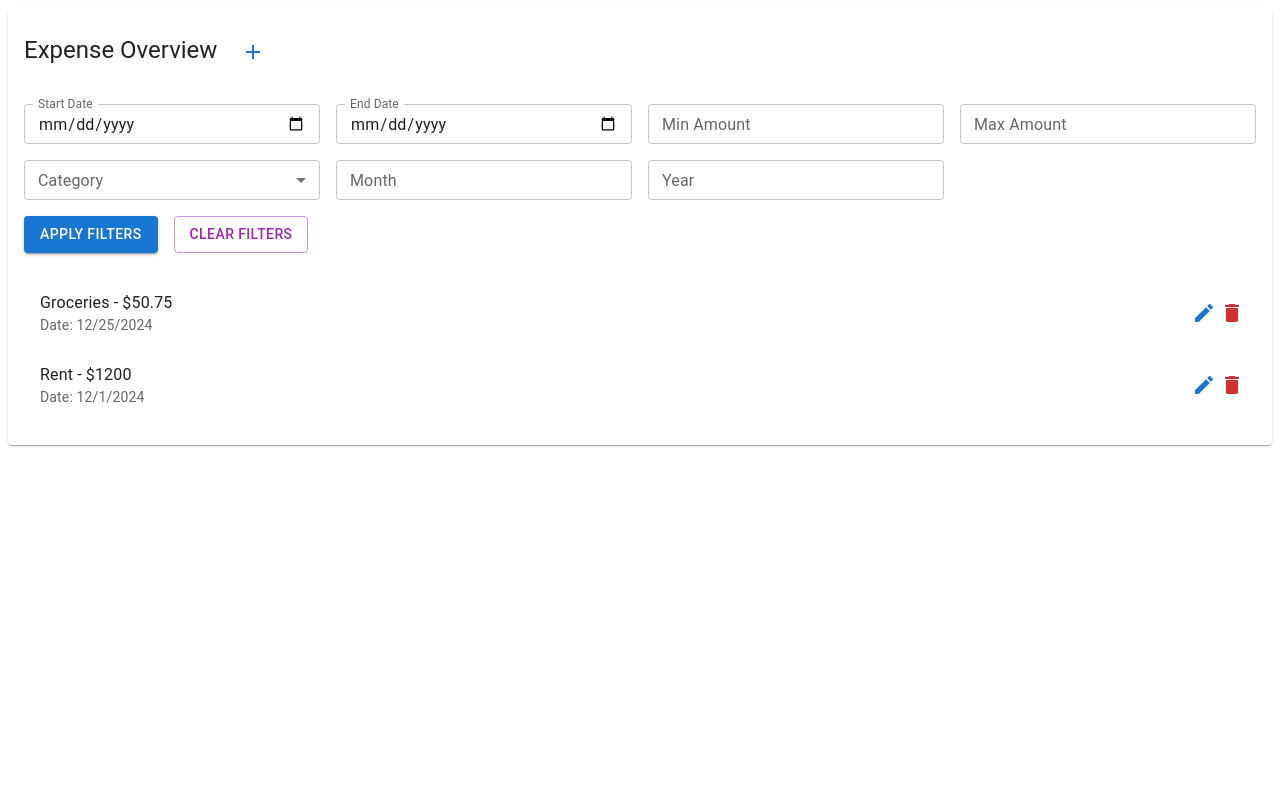
Test: ExpenseOverview Component › opens the modal for editing an expense
// Click the Edit button of the first expense
Click the button named "edit" in the row of "Groceries - $50.75" at (1204,312), box [1184, 292, 1224, 332]
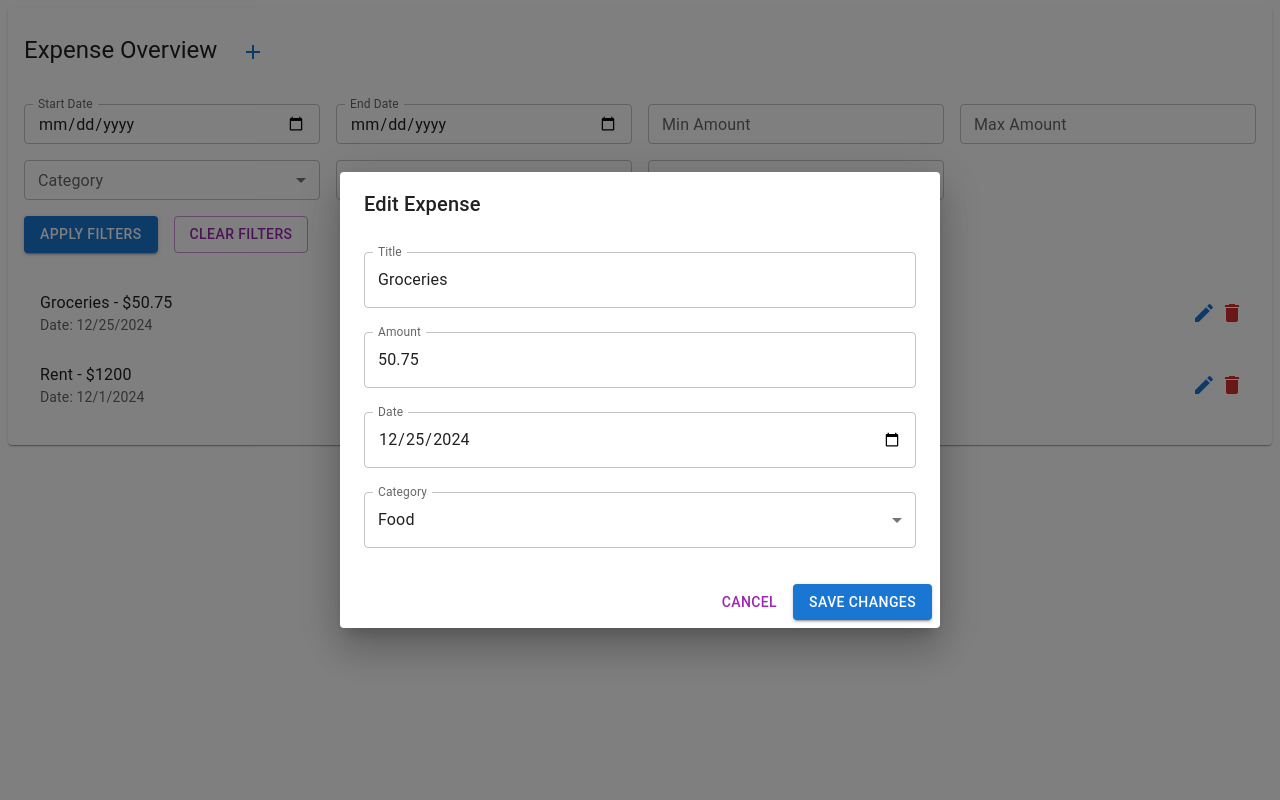
Check: the heading "Edit Expense" is shown, box [364, 192, 480, 216]
Check: the field showing "Groceries" is shown, box [364, 252, 916, 308]
Check: the number field showing "50.75" is shown, box [364, 332, 916, 388]
